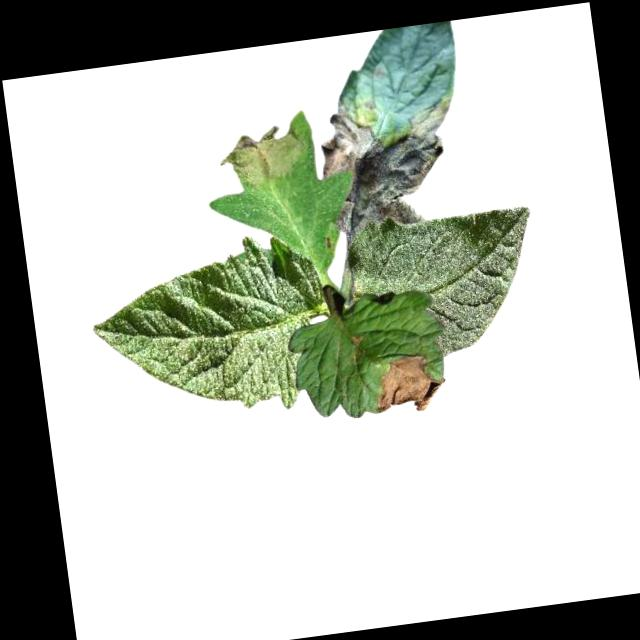Late_blight: (310, 84, 468, 235), (210, 121, 308, 191), (370, 349, 449, 417)
